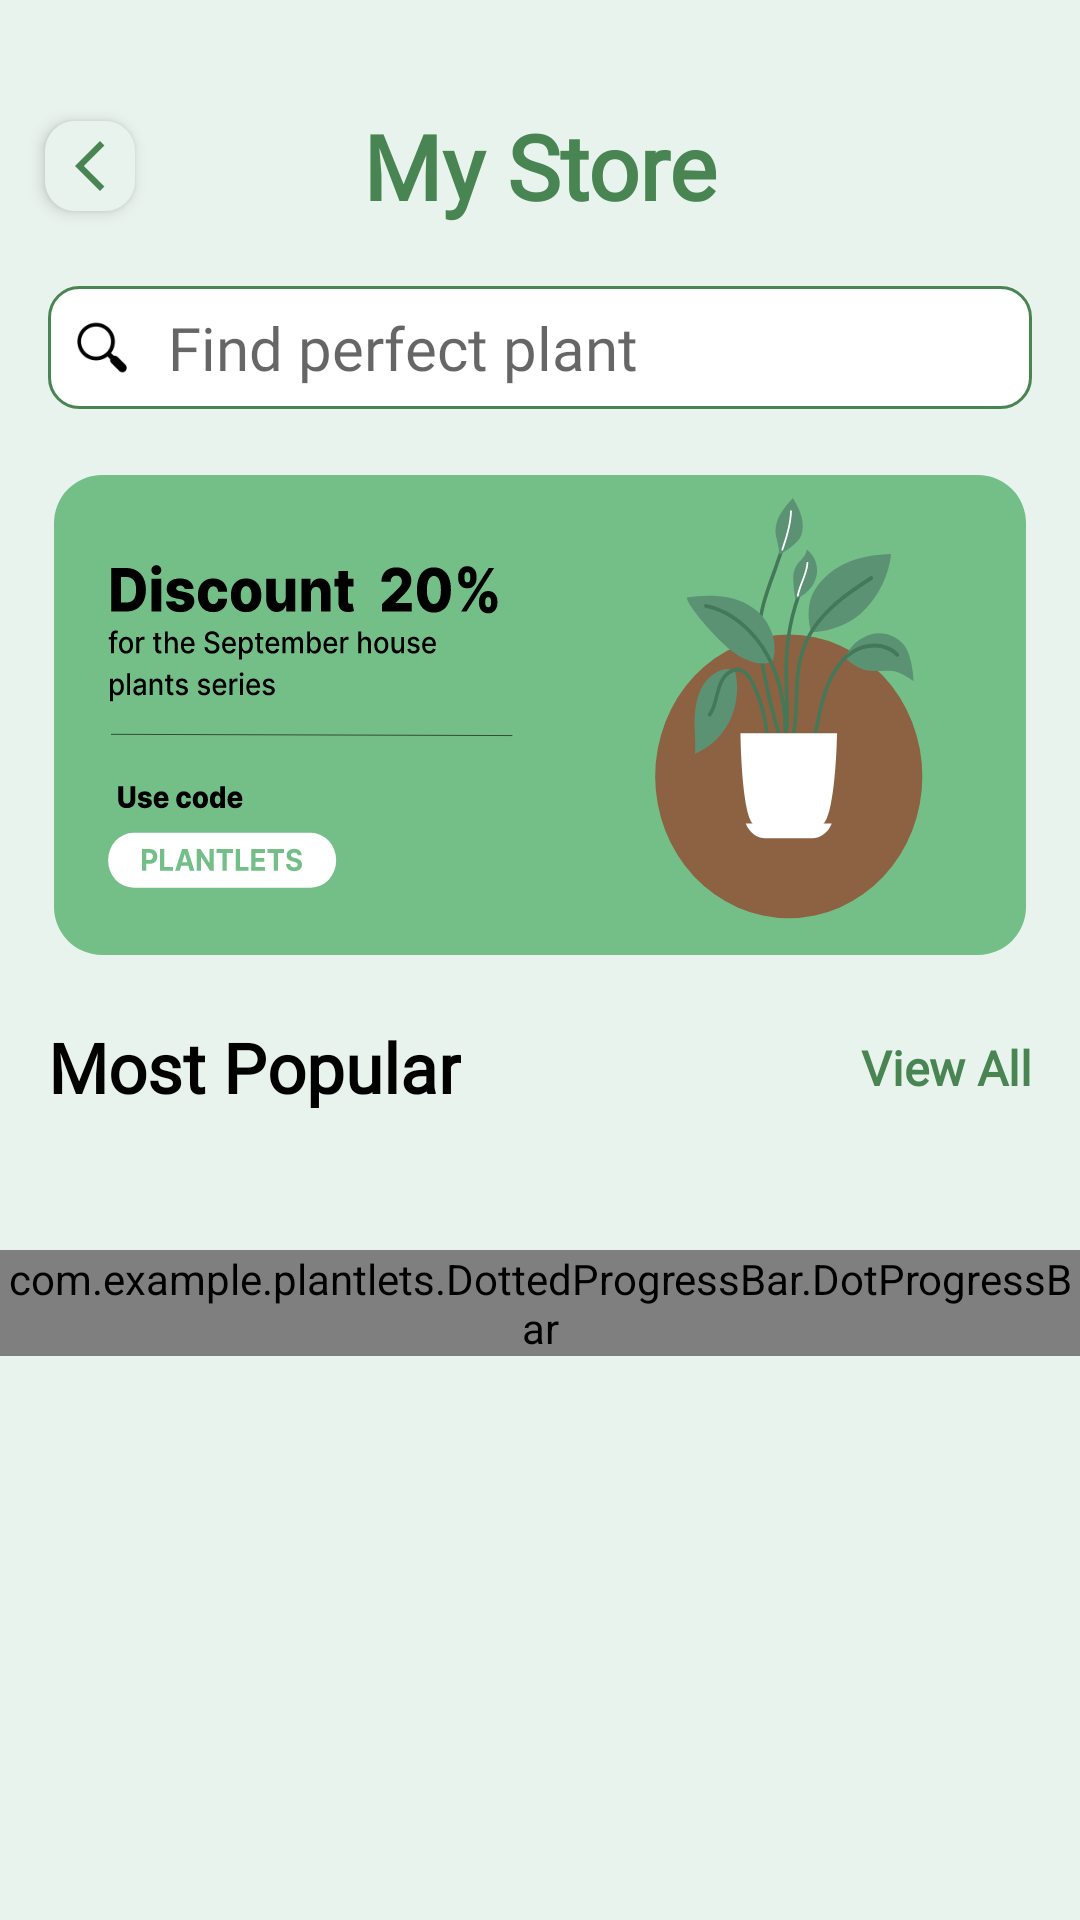

Where icons sit on this 1080px×1920px app screen, as {"left": x1, "top": y1, "right": x2, "bottom": y2}:
back: {"left": 75, "top": 141, "right": 105, "bottom": 191}
search: {"left": 77, "top": 322, "right": 127, "bottom": 373}
